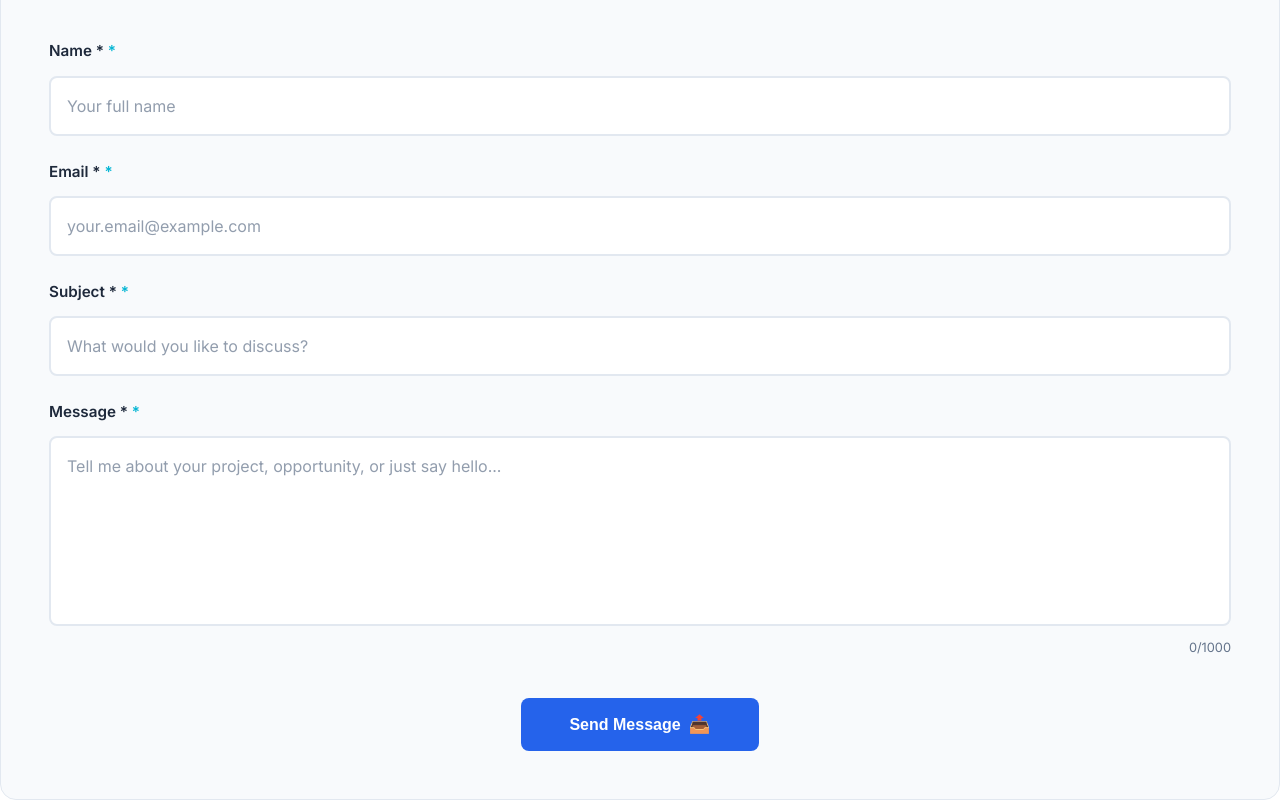
Test case: ContactForm › Form Submission › should not submit form with empty fields
The image size is (1280, 800).
(page scrolled)
Click the button "Send Message 📤" at (640, 725), box [521,698,758,752]
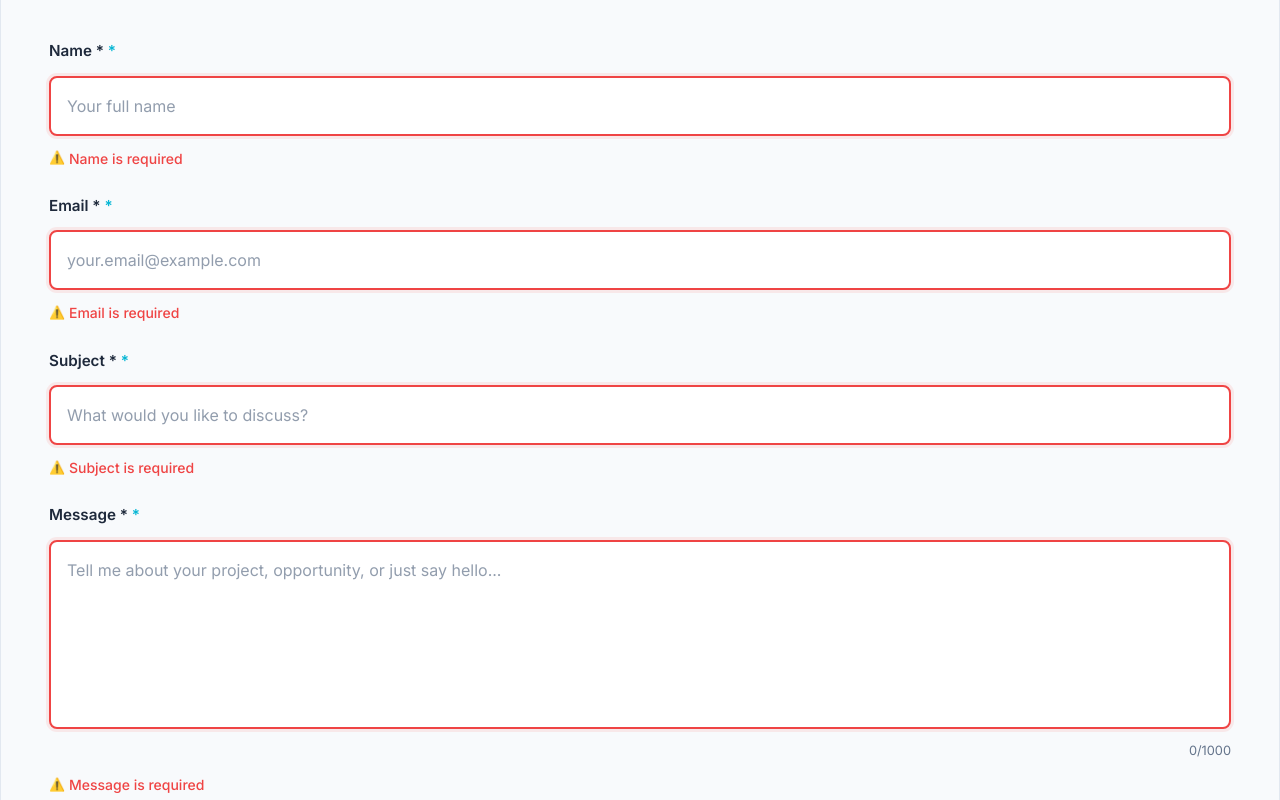
Now the text "Name is required" is shown, box [69,150,183,166]
Now the text "Email is required" is shown, box [69,304,179,321]
Now the text "Subject is required" is shown, box [69,459,194,476]
